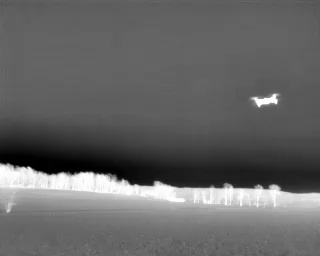DRONE: (246, 88, 284, 113)
